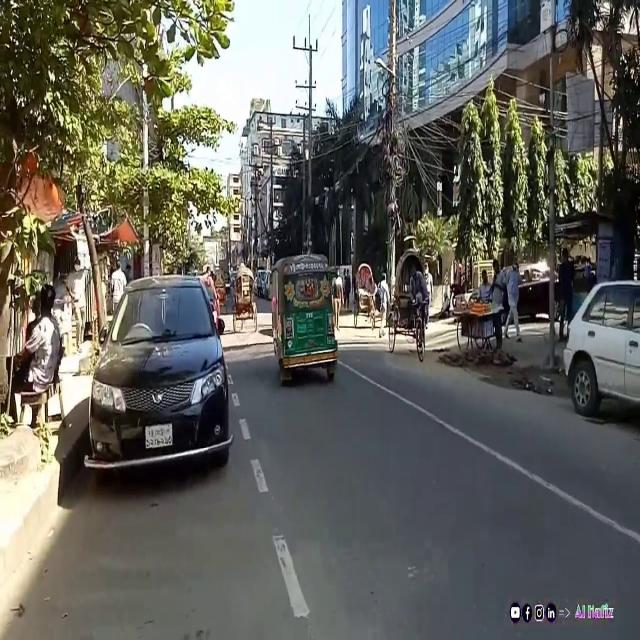black: (86, 274, 235, 470)
white: (566, 283, 640, 413)
